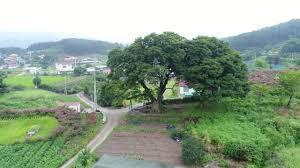tree: (103, 27, 195, 120), (169, 33, 249, 108)
